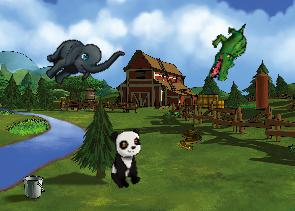crocodile: (207, 21, 248, 83)
elephant: (37, 16, 125, 105)
panda: (109, 128, 143, 189)
